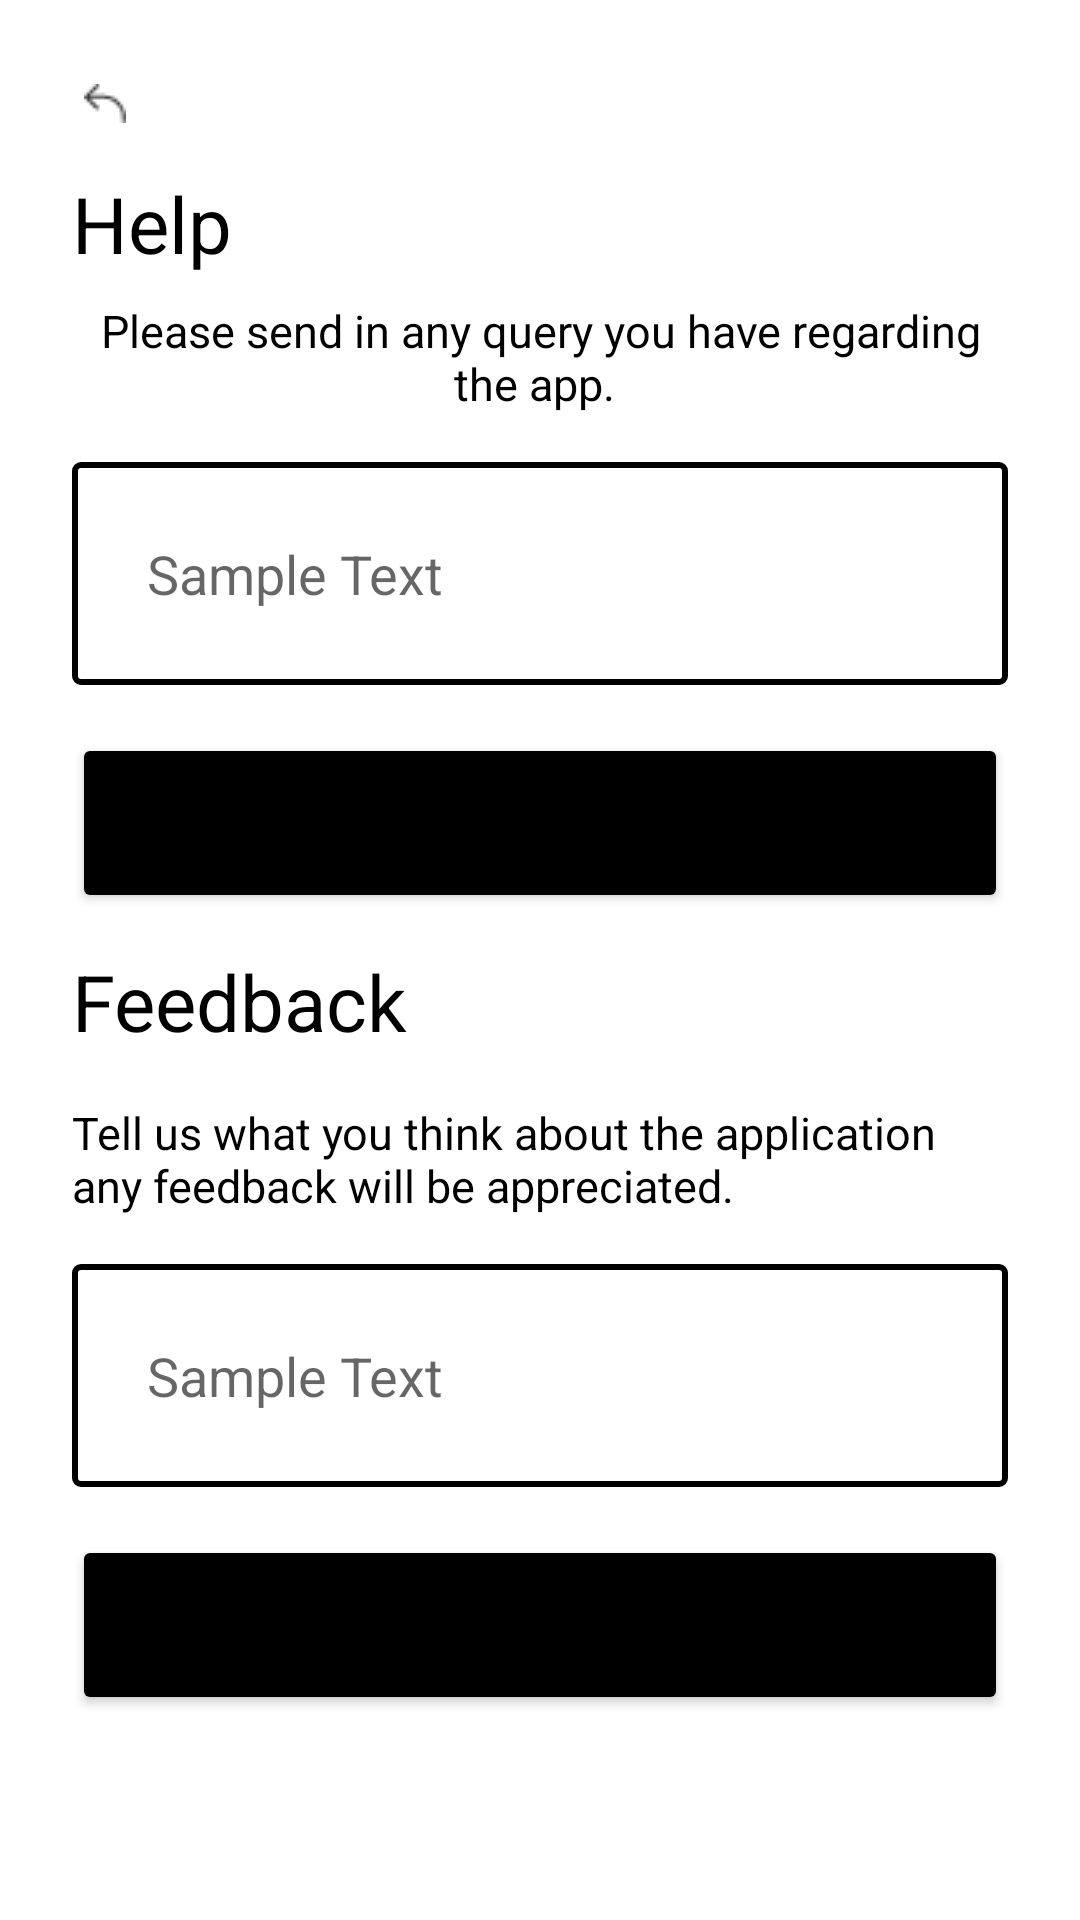

Icons on this 1080*1920 Android screen, each with the point to tap as (x=x, y=y):
arrow: (x=105, y=103)
